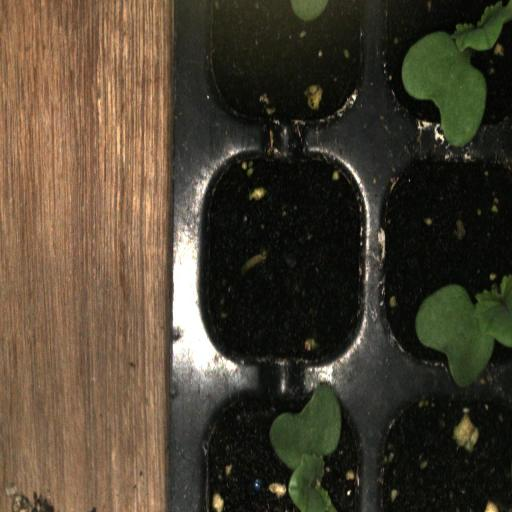noseedling: (191, 136, 373, 376)
seedling: (377, 134, 512, 368), (192, 374, 372, 512), (375, 0, 512, 135)
